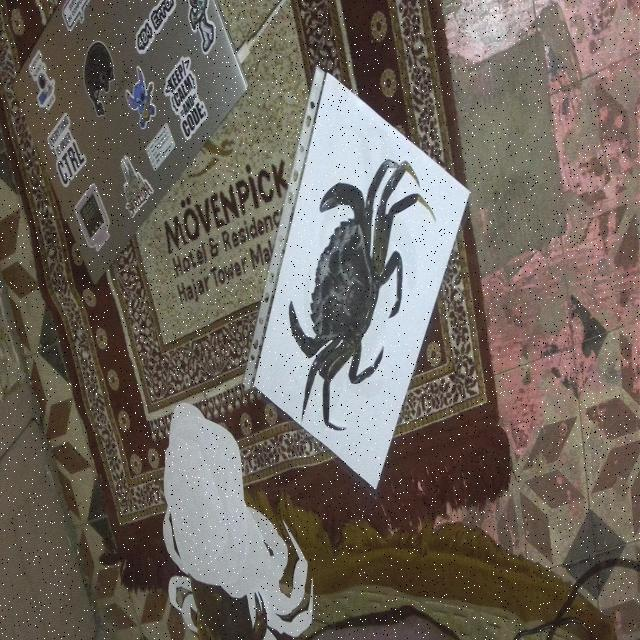European_Green_Crab: (265, 108, 435, 466)
